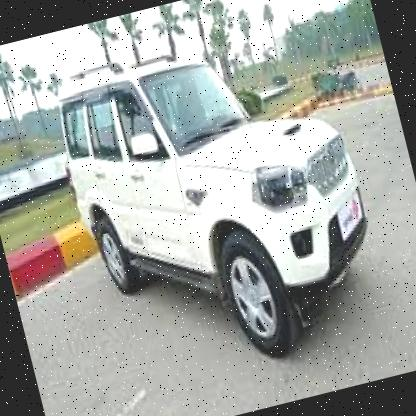car: (43, 18, 406, 395)
